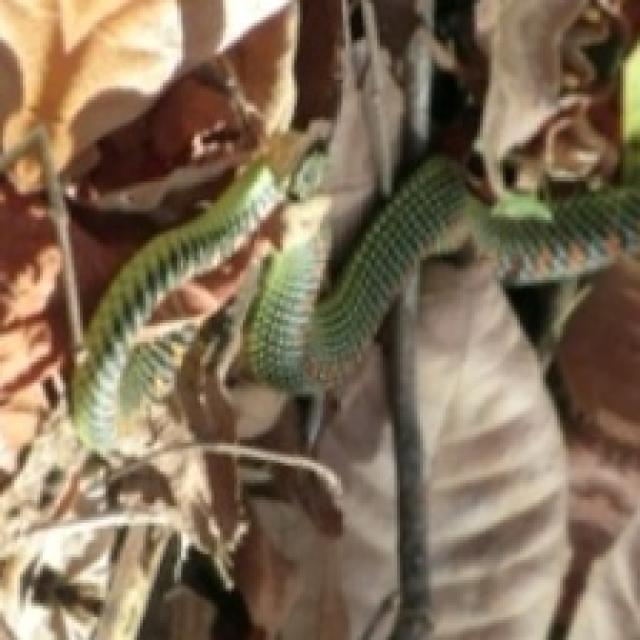paradise tree snake: (71, 0, 637, 637), (474, 3, 580, 191)
